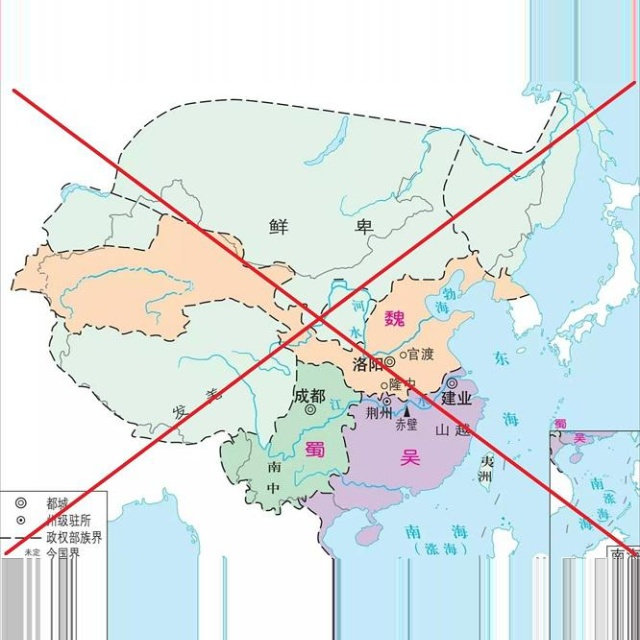Nine Dash Line: (549, 429, 636, 635), (468, 449, 508, 637)
